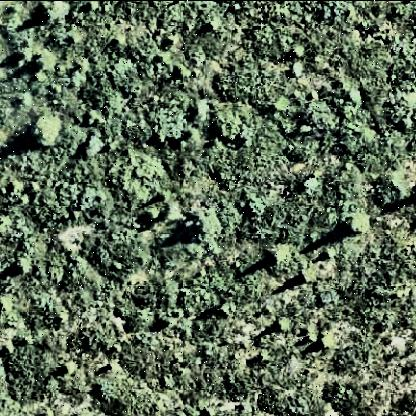tree-top: (30, 118, 61, 149), (34, 1, 74, 23), (182, 213, 207, 241), (82, 132, 107, 156), (341, 214, 364, 238), (266, 246, 287, 267), (164, 198, 182, 222), (296, 266, 320, 284), (32, 53, 52, 71), (314, 336, 334, 353), (273, 317, 289, 335)
